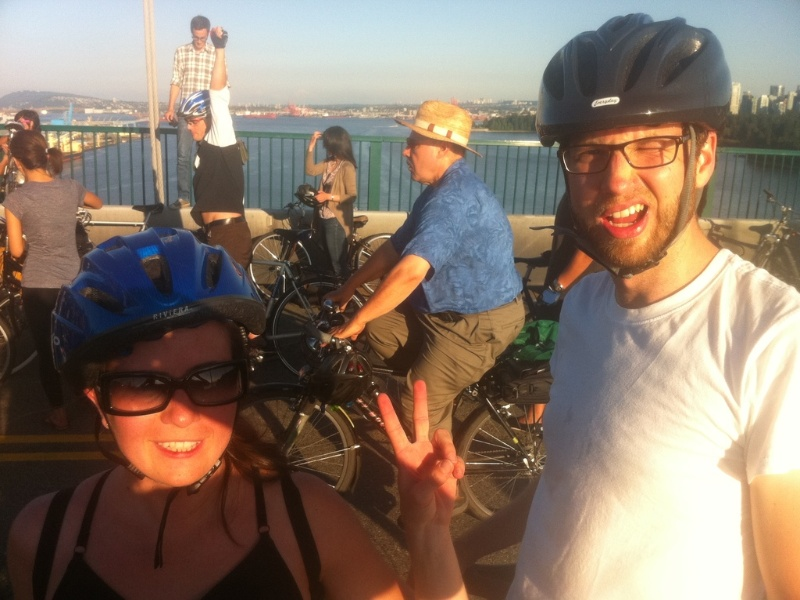Baret: (50, 228, 267, 350), (539, 12, 735, 134)
